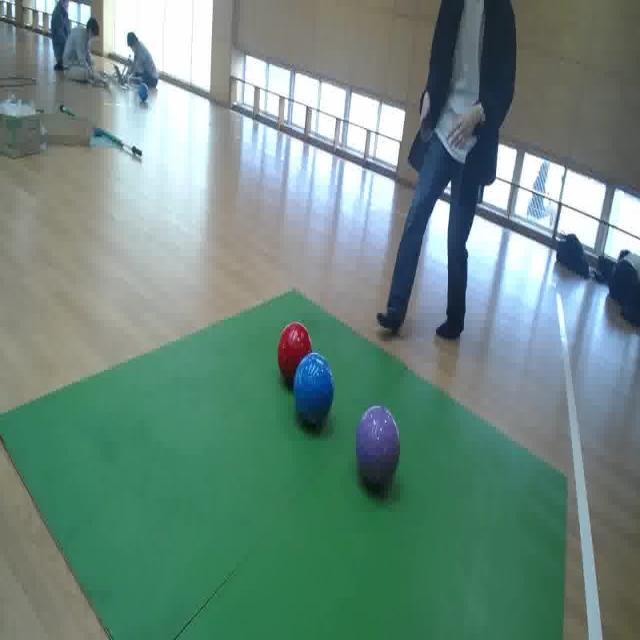blue_ball: (294, 353, 334, 426)
purple_ball: (355, 404, 401, 486)
red_ball: (278, 322, 312, 381)
